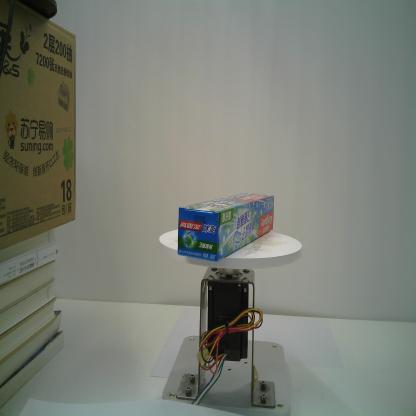Personal Hygiene: (178, 192, 274, 261)
